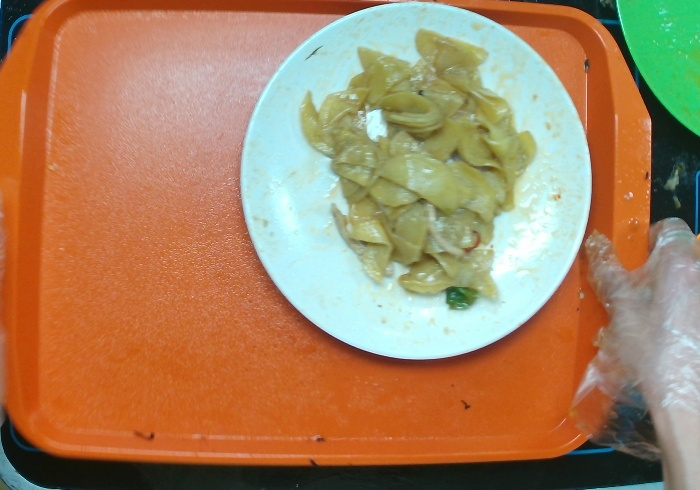HZYJPL-Bai_Se_Yuan_Pan: (231, 1, 599, 364)
